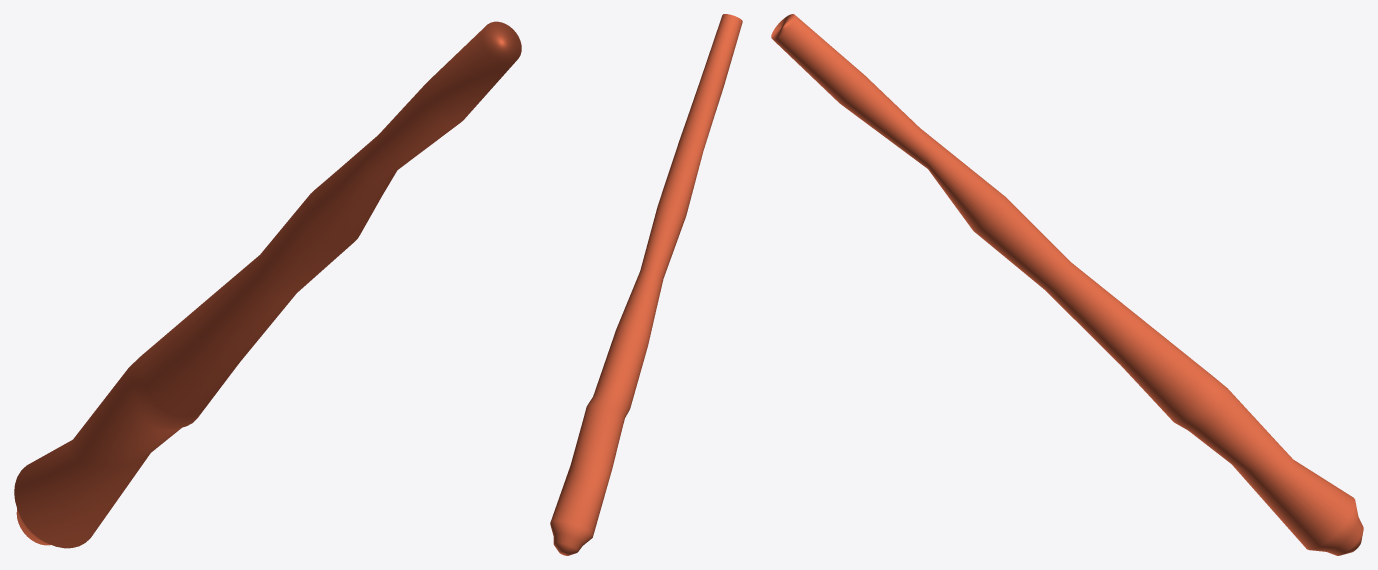
Rendered from barita.fbx.
3 views of the same model, side by side, from view 1: azimuth 30°, elevation 25°; view 2: azimuth 150°, elevation 25°; view 3: azimuth 270°, elevation 25° (orthographic). The views are drawn at different scales.
Parts seen in each view (by area): view 1: Cilindro.030; view 2: Cilindro.030; view 3: Cilindro.030.
Boxes of the visible parts, x1,y1,x2,y2 form: Cilindro.030: (14, 21, 521, 548); Cilindro.030: (550, 14, 742, 555); Cilindro.030: (771, 14, 1363, 555).
Size of the model in its own units: 24.06 by 152 by 146.
